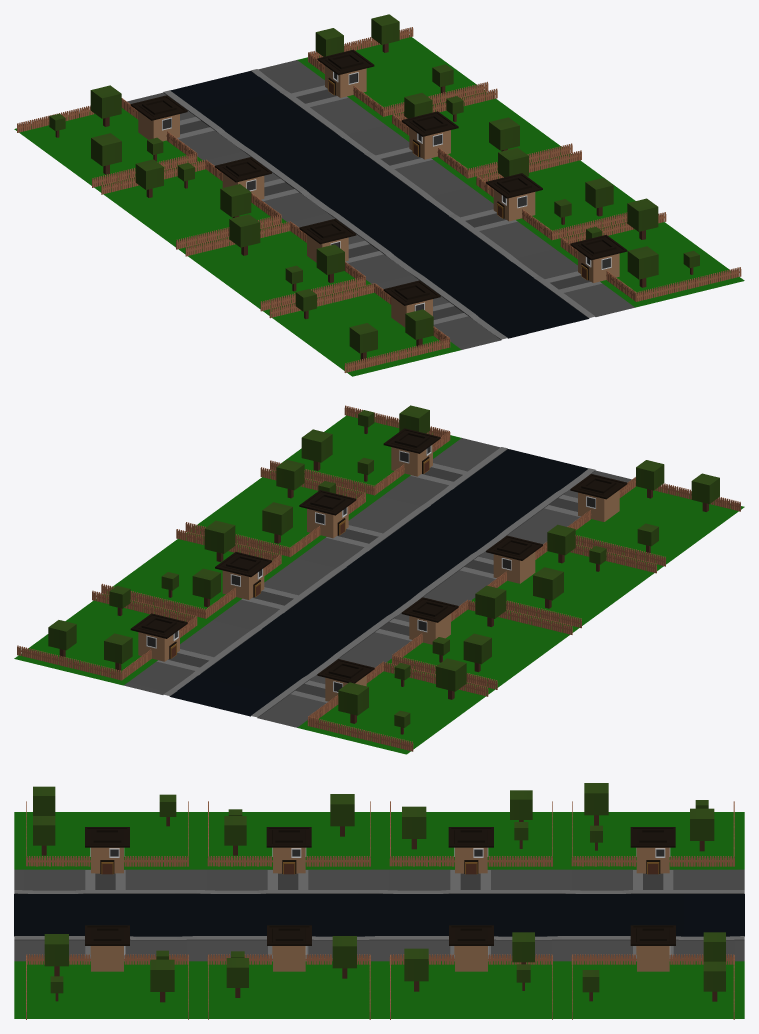
File: MinimalistCity.fbx
The picture shows the model from 3 angles, top to bottom: view 1: azimuth 30°, elevation 25°; view 2: azimuth 150°, elevation 25°; view 3: azimuth 270°, elevation 25°; orthographic projection. The views are drawn at different scales.
Visible parts, largest first — view 1: Road, plane8, Plane1, plane4, plane7, plane6, plane3, Plane2, plane5, fens5, fens4, fens6 (+29 smaller); view 2: Road, plane5, plane8, Plane1, Plane2, plane4, plane3, plane7, plane6, fens1, fens8, fens2 (+29 smaller); view 3: Road, plane3, Plane2, Plane1, plane8, plane4, plane7, plane5, plane6, fens8, fens6, fens7 (+39 smaller).
Boxes of the visible parts, <box> form: Road: <box>170,71,589,338</box>; plane8: <box>268,276,526,376</box>; Plane1: <box>250,35,487,132</box>; plane4: <box>504,222,744,322</box>; plane7: <box>183,214,422,314</box>; plane6: <box>99,152,338,252</box>; plane3: <box>420,159,635,256</box>; Plane2: <box>335,97,571,194</box>; plane5: <box>14,90,253,190</box>; fens5: <box>269,283,450,372</box>; fens4: <box>560,212,741,301</box>; fens6: <box>185,221,365,311</box>; Road: <box>170,449,588,716</box>; plane5: <box>250,654,490,754</box>; plane8: <box>505,468,744,568</box>; Plane1: <box>14,599,254,696</box>; Plane2: <box>102,537,338,634</box>; plane4: <box>270,414,507,510</box>; plane3: <box>186,475,423,572</box>; plane7: <box>420,530,659,630</box>; plane6: <box>336,592,575,692</box>; fens1: <box>17,590,197,680</box>; fens8: <box>307,661,488,751</box>; fens2: <box>101,529,281,618</box>; Road: <box>14,894,744,936</box>; plane3: <box>197,936,379,1018</box>; Plane2: <box>379,936,561,1018</box>; Plane1: <box>562,936,744,1018</box>; plane8: <box>14,812,196,893</box>; plane4: <box>14,936,196,1018</box>; plane7: <box>196,812,379,893</box>; plane5: <box>562,812,744,893</box>; plane6: <box>379,812,561,893</box>; fens8: <box>571,801,734,866</box>; fens6: <box>207,801,370,866</box>; fens7: <box>389,801,552,866</box>.
Size of the model in its own units: 5882 by 543 by 8714.
2 materials, 2 textured.
